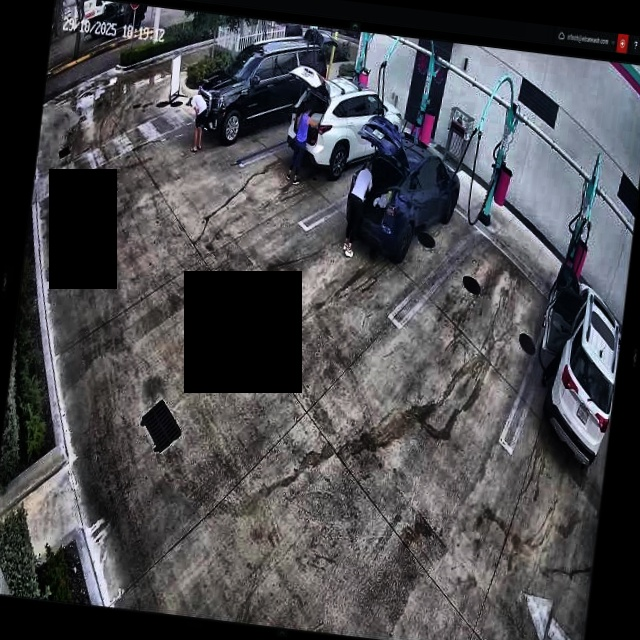Car: (342, 110, 467, 270), (279, 60, 408, 186)
